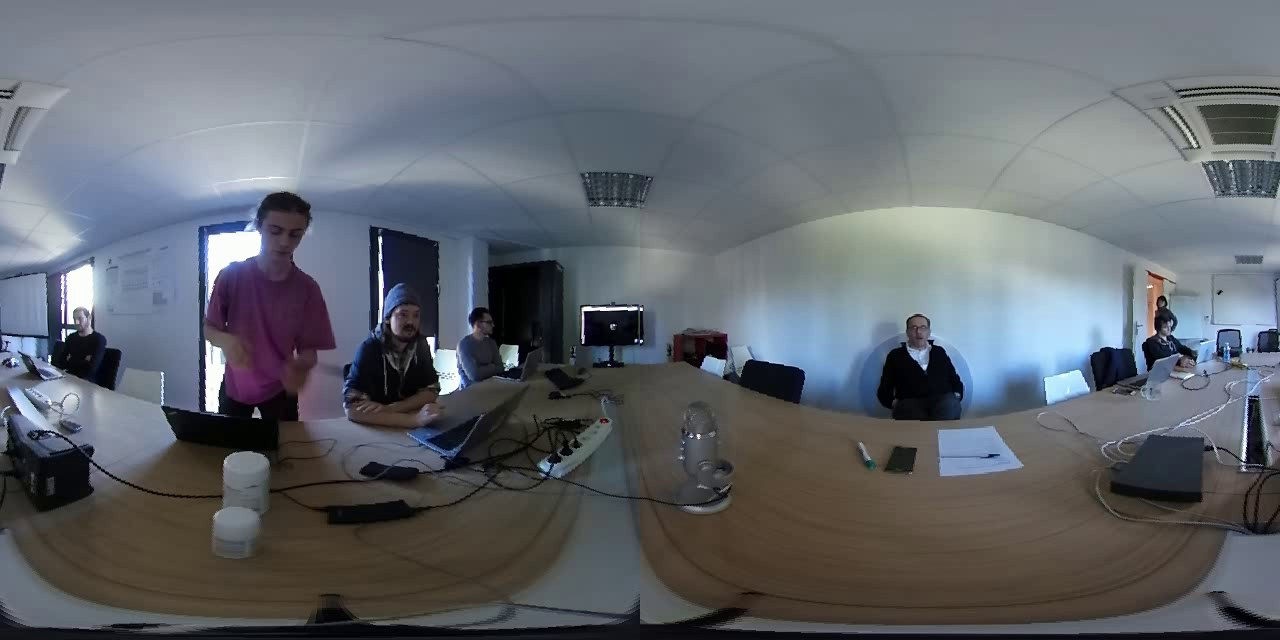person: (191, 167, 338, 419), (343, 259, 441, 432), (858, 297, 976, 421), (46, 295, 126, 379), (453, 298, 517, 380), (1132, 313, 1197, 356), (1132, 280, 1186, 327)
